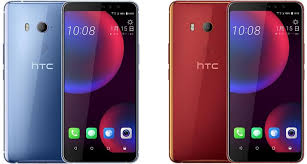htc: (223, 1, 307, 164), (58, 1, 142, 163), (3, 1, 66, 164), (166, 1, 229, 164)
